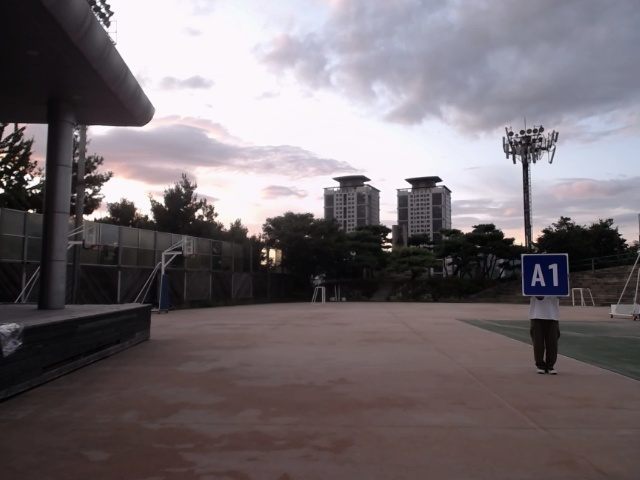delivery_a1: (522, 254, 569, 297)
